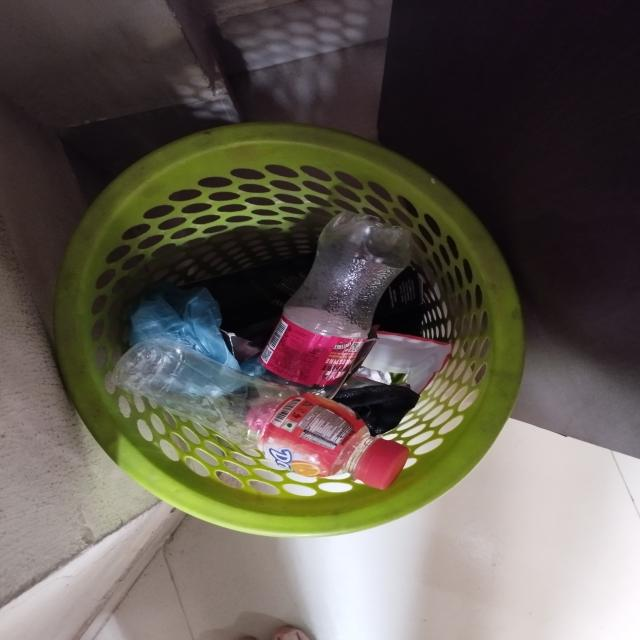plastic: (110, 337, 414, 490), (253, 216, 414, 387)
